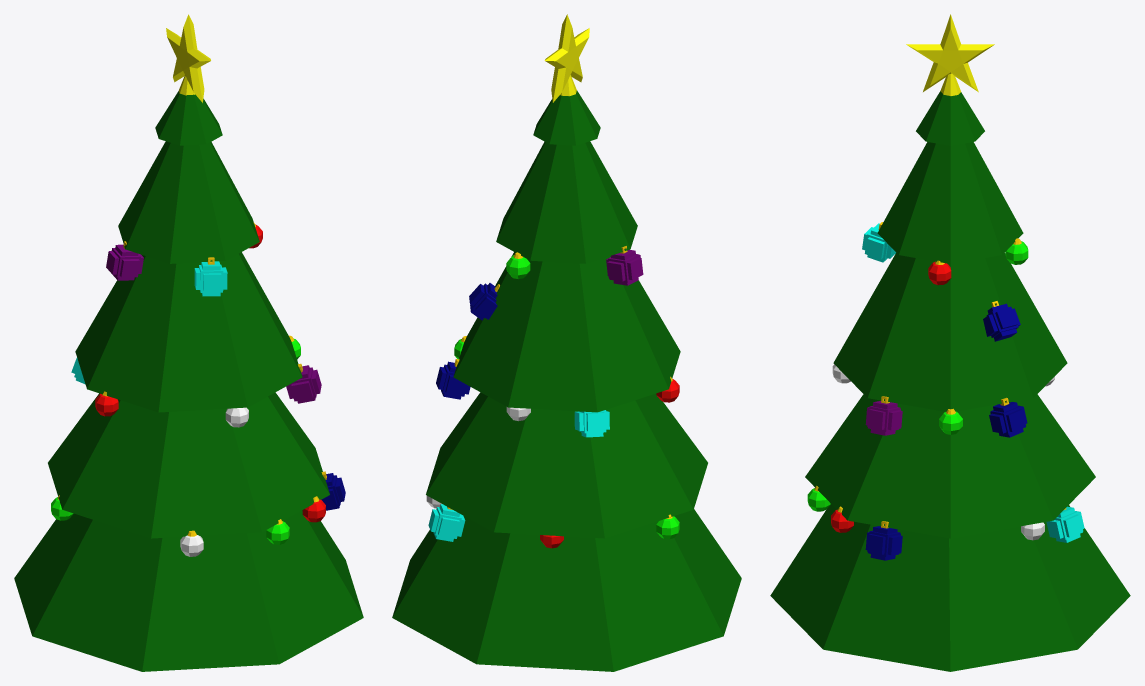
The model's file is Arvere de natau.fbx.
3 renders of one model, left to right at view 1: azimuth 30°, elevation 25°; view 2: azimuth 150°, elevation 25°; view 3: azimuth 270°, elevation 25°, orthographic.
Visible parts, largest first — view 1: Arvere, bolas quadrada 2, Ixtrela, bolas quadrada 3, bolas bola 1, bolas bola 3, bolas bola 2, bolas quadrada 1; view 2: Arvere, Ixtrela, bolas quadrada 3, bolas quadrada 1, bolas bola 2, bolas quadrada 2, bolas bola 1; view 3: Arvere, bolas quadrada 1, Ixtrela, bolas quadrada 3, bolas bola 2, bolas quadrada 2, bolas bola 1, bolas bola 3.
Boxes of the visible parts, x1=… form: Arvere: x1=14, y1=91, x2=363, y2=671; bolas quadrada 2: x1=106, y1=241, x2=321, y2=403; Ixtrela: x1=166, y1=14, x2=210, y2=102; bolas quadrada 3: x1=71, y1=257, x2=227, y2=384; bolas bola 1: x1=95, y1=222, x2=325, y2=522; bolas bola 3: x1=180, y1=407, x2=248, y2=556; bolas bola 2: x1=51, y1=335, x2=300, y2=544; bolas quadrada 1: x1=321, y1=471, x2=345, y2=510; Arvere: x1=392, y1=90, x2=741, y2=671; Ixtrela: x1=544, y1=14, x2=589, y2=102; bolas quadrada 3: x1=428, y1=410, x2=609, y2=541; bolas quadrada 1: x1=436, y1=283, x2=499, y2=399; bolas bola 2: x1=454, y1=252, x2=679, y2=539; bolas quadrada 2: x1=606, y1=246, x2=643, y2=285; bolas bola 1: x1=540, y1=376, x2=679, y2=548; Arvere: x1=770, y1=91, x2=1130, y2=671; bolas quadrada 1: x1=865, y1=301, x2=1027, y2=560; Ixtrela: x1=906, y1=14, x2=994, y2=95; bolas quadrada 3: x1=862, y1=222, x2=1084, y2=542; bolas bola 2: x1=807, y1=238, x2=1028, y2=511; bolas quadrada 2: x1=865, y1=396, x2=902, y2=435; bolas bola 1: x1=831, y1=260, x2=951, y2=532; bolas bola 3: x1=832, y1=364, x2=1054, y2=540.
Bounding box in the file's own units: 1169 × 2237 × 1169.
